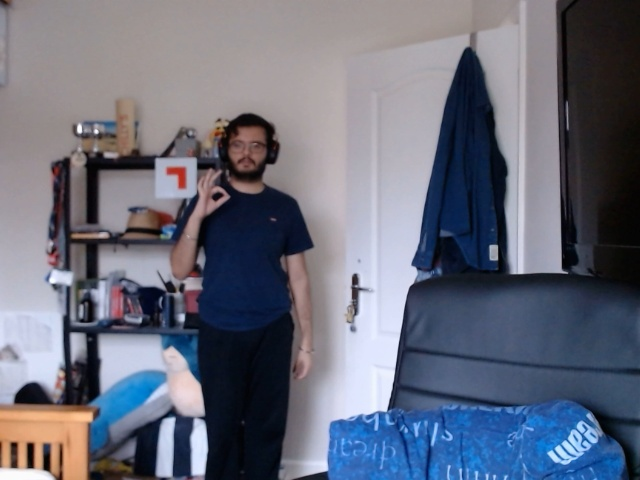Okay: (177, 166, 240, 222)
